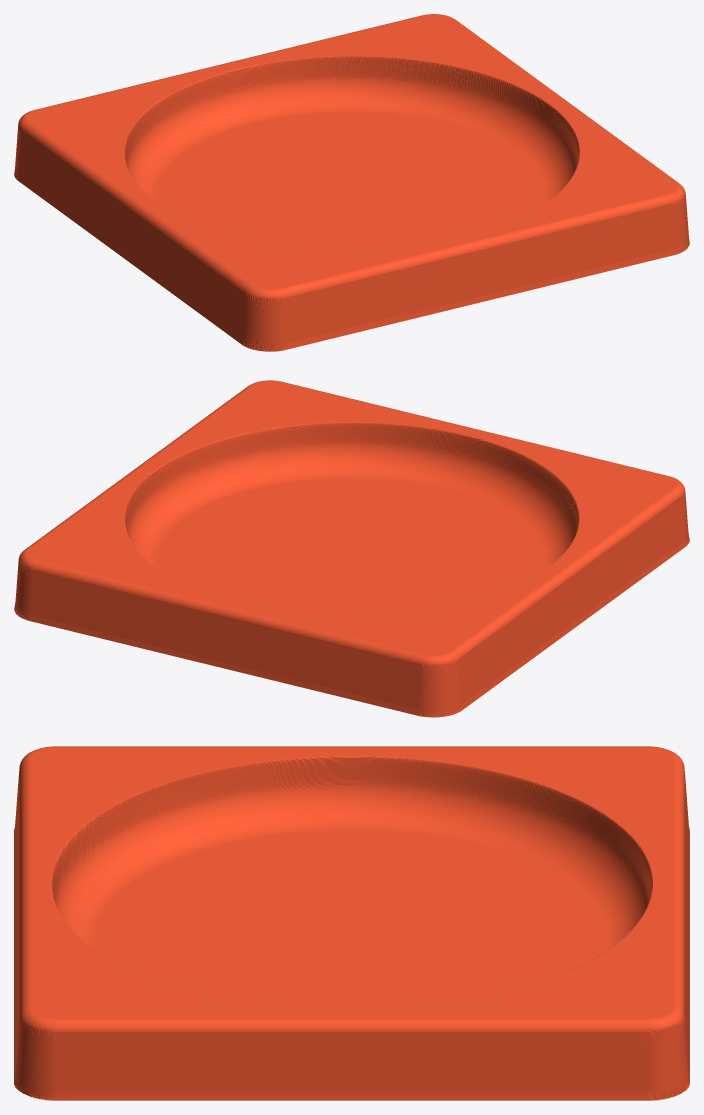
Rendered from mold.glb.
The picture shows the model from 3 angles, top to bottom: view 1: azimuth 30°, elevation 25°; view 2: azimuth 150°, elevation 25°; view 3: azimuth 270°, elevation 25°; orthographic projection. The views are drawn at different scales.
Parts seen in each view (by area): view 1: geometry_0; view 2: geometry_0; view 3: geometry_0.
Boxes of the visible parts, box(x1,y1,x2,y2) form: geometry_0: box(14, 14, 689, 351); geometry_0: box(14, 380, 689, 717); geometry_0: box(14, 746, 689, 1100).
Bounding box in the file's own units: 0.1435 × 0.0175 × 0.1435.
